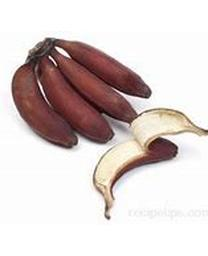banana: (11, 38, 151, 148)
